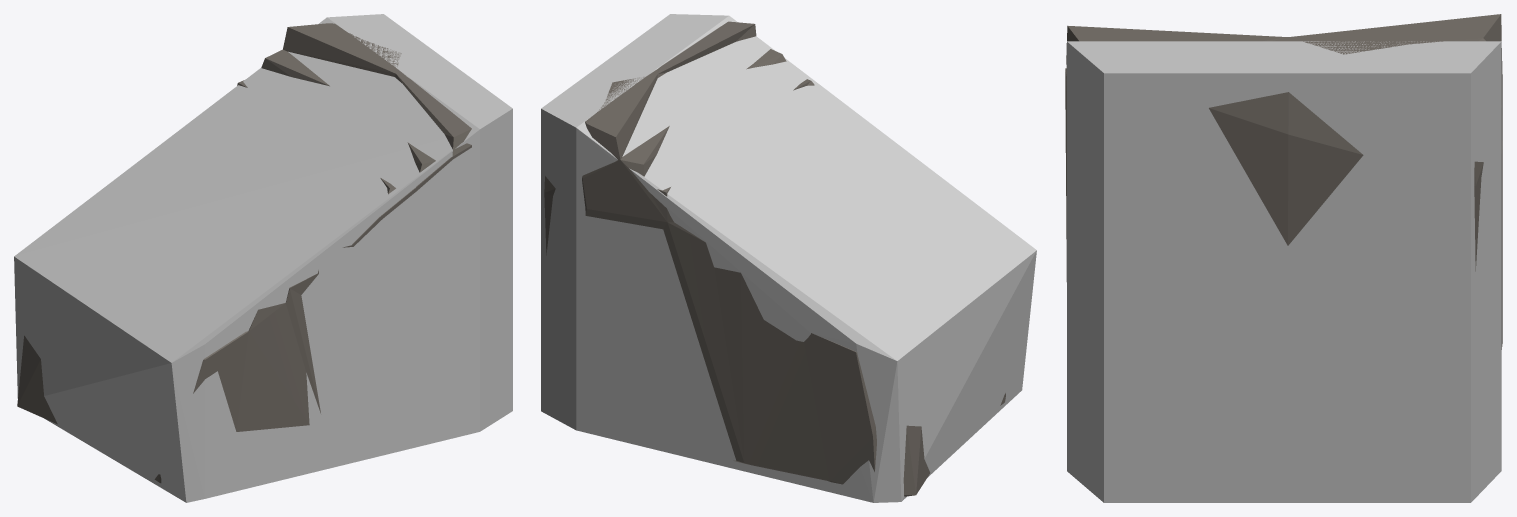
File: SM_Env_Rock_Stairs_05.fbx
3 renders of one model, left to right at view 1: azimuth 30°, elevation 25°; view 2: azimuth 150°, elevation 25°; view 3: azimuth 270°, elevation 25°, orthographic. The views are drawn at different scales.
Visible parts, largest first — view 1: SM_Env_Rock_Stairs_05_ConvexHulls, SM_Env_Rock_Stairs_05; view 2: SM_Env_Rock_Stairs_05_ConvexHulls, SM_Env_Rock_Stairs_05; view 3: SM_Env_Rock_Stairs_05_ConvexHulls, SM_Env_Rock_Stairs_05.
Boxes of the visible parts, x1,y1,x2,y2 form: SM_Env_Rock_Stairs_05_ConvexHulls: (14,14,512,502); SM_Env_Rock_Stairs_05: (17,23,471,483); SM_Env_Rock_Stairs_05_ConvexHulls: (541,14,1036,502); SM_Env_Rock_Stairs_05: (544,21,1005,496); SM_Env_Rock_Stairs_05_ConvexHulls: (1067,41,1501,502); SM_Env_Rock_Stairs_05: (1065,14,1502,349).
Size of the model in its own units: 366 by 261 by 284.
Materials: 2 (1 with a texture image).
